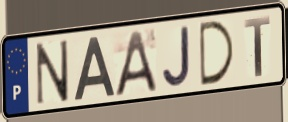A: (112, 28, 159, 99), (72, 34, 117, 102)
D: (197, 19, 237, 89)
J: (160, 24, 192, 90)
N: (35, 38, 70, 107)
T: (243, 15, 272, 79)
